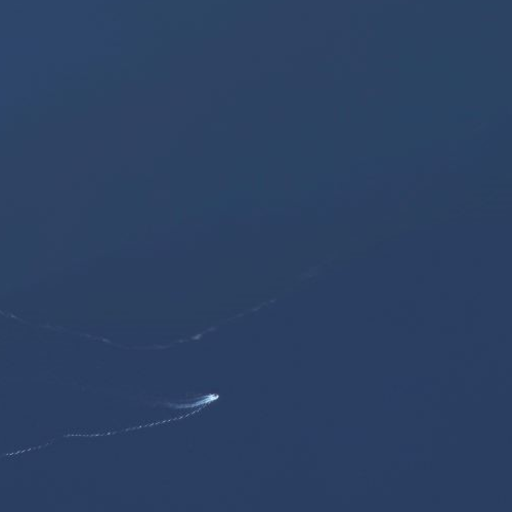ship: (201, 390, 221, 404)
